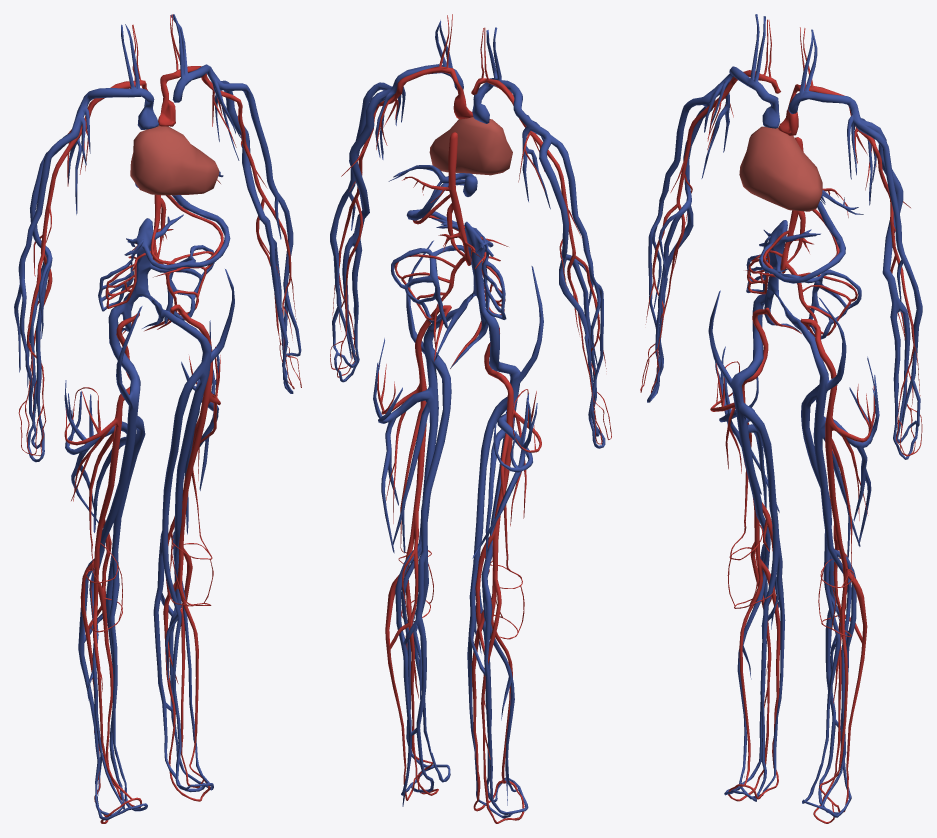
File: pediatric_child_5y_female.cardiovascular.LOD2.glb
3 views of the same model, side by side, from view 1: azimuth 30°, elevation 25°; view 2: azimuth 150°, elevation 25°; view 3: azimuth 330°, elevation 25° (orthographic).
Parts seen in each view (by area): view 1: PEDIATRIC.CHILD_5Y.FEMALE.CARDIOVASCULAR.BLOOD_IN_LARGE_VEIN, PEDIATRIC.CHILD_5Y.FEMALE.CARDIOVASCULAR.BLOOD_IN_LARGE_ARTE, PEDIATRIC.CHILD_5Y.FEMALE.CARDIOVASCULAR.HEART_WALL; view 2: PEDIATRIC.CHILD_5Y.FEMALE.CARDIOVASCULAR.BLOOD_IN_LARGE_VEIN, PEDIATRIC.CHILD_5Y.FEMALE.CARDIOVASCULAR.BLOOD_IN_LARGE_ARTE, PEDIATRIC.CHILD_5Y.FEMALE.CARDIOVASCULAR.HEART_WALL; view 3: PEDIATRIC.CHILD_5Y.FEMALE.CARDIOVASCULAR.BLOOD_IN_LARGE_VEIN, PEDIATRIC.CHILD_5Y.FEMALE.CARDIOVASCULAR.BLOOD_IN_LARGE_ARTE, PEDIATRIC.CHILD_5Y.FEMALE.CARDIOVASCULAR.HEART_WALL.
Part boxes in pixels (box(x1,y1,x2,y2)): PEDIATRIC.CHILD_5Y.FEMALE.CARDIOVASCULAR.BLOOD_IN_LARGE_VEIN: box(14, 14, 301, 820); PEDIATRIC.CHILD_5Y.FEMALE.CARDIOVASCULAR.BLOOD_IN_LARGE_ARTE: box(18, 14, 301, 823); PEDIATRIC.CHILD_5Y.FEMALE.CARDIOVASCULAR.HEART_WALL: box(130, 125, 219, 195); PEDIATRIC.CHILD_5Y.FEMALE.CARDIOVASCULAR.BLOOD_IN_LARGE_VEIN: box(330, 20, 605, 818); PEDIATRIC.CHILD_5Y.FEMALE.CARDIOVASCULAR.BLOOD_IN_LARGE_ARTE: box(330, 14, 611, 823); PEDIATRIC.CHILD_5Y.FEMALE.CARDIOVASCULAR.HEART_WALL: box(429, 117, 512, 175); PEDIATRIC.CHILD_5Y.FEMALE.CARDIOVASCULAR.BLOOD_IN_LARGE_VEIN: box(647, 14, 922, 817); PEDIATRIC.CHILD_5Y.FEMALE.CARDIOVASCULAR.BLOOD_IN_LARGE_ARTE: box(640, 19, 922, 823); PEDIATRIC.CHILD_5Y.FEMALE.CARDIOVASCULAR.HEART_WALL: box(739, 126, 822, 211).
Size of the model in its own units: 0.3473 by 0.9466 by 0.1177.
